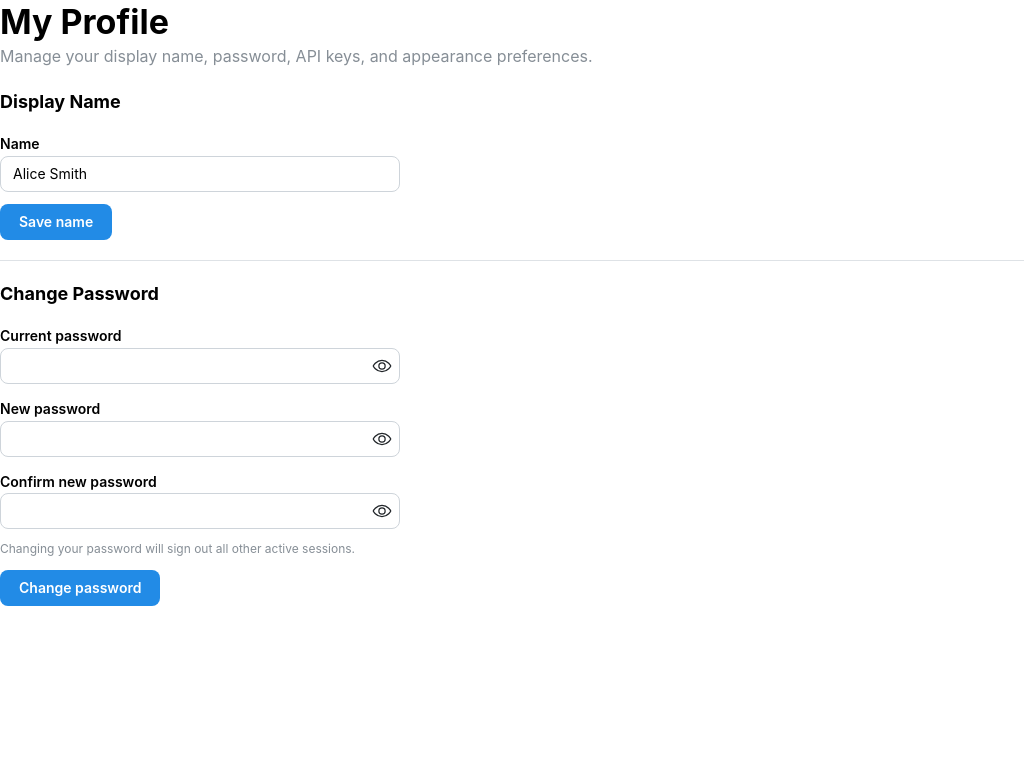
Test case: QOL-001 — Password strength meter › strength indicator appears after the user starts typing in the new-password field
Type "abc" into the password field with test id "new-password-input". click: (200, 439)
box: [1, 422, 399, 456]
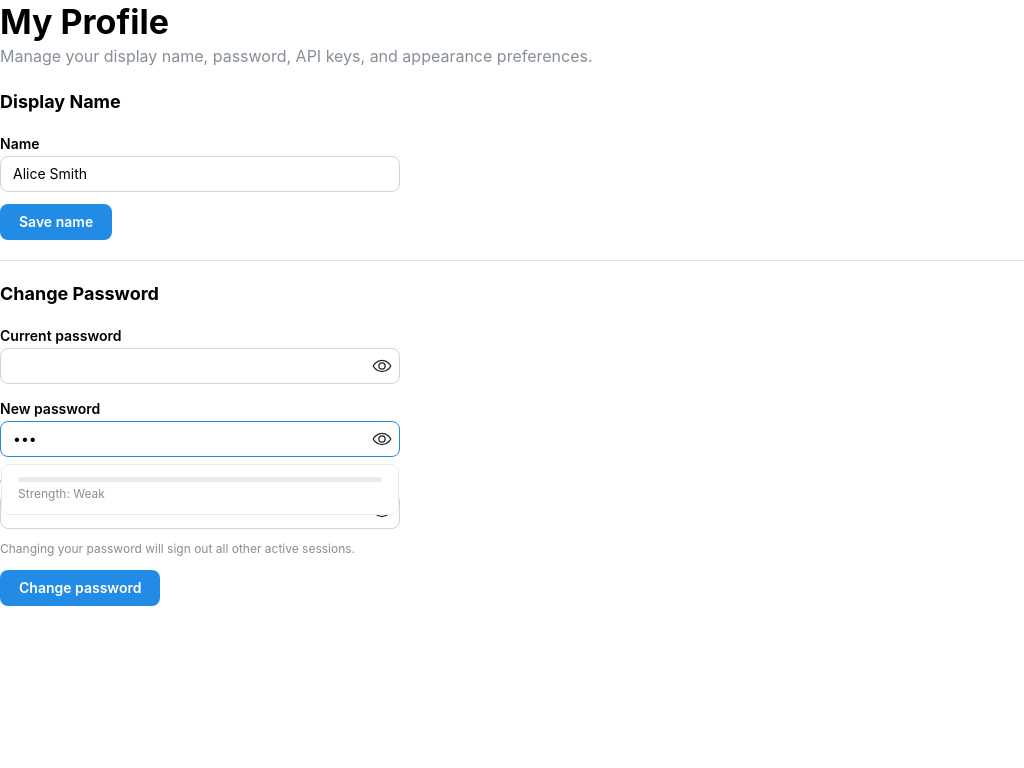
Now the text "Strength: Weak" is shown, box [18, 486, 105, 501]
